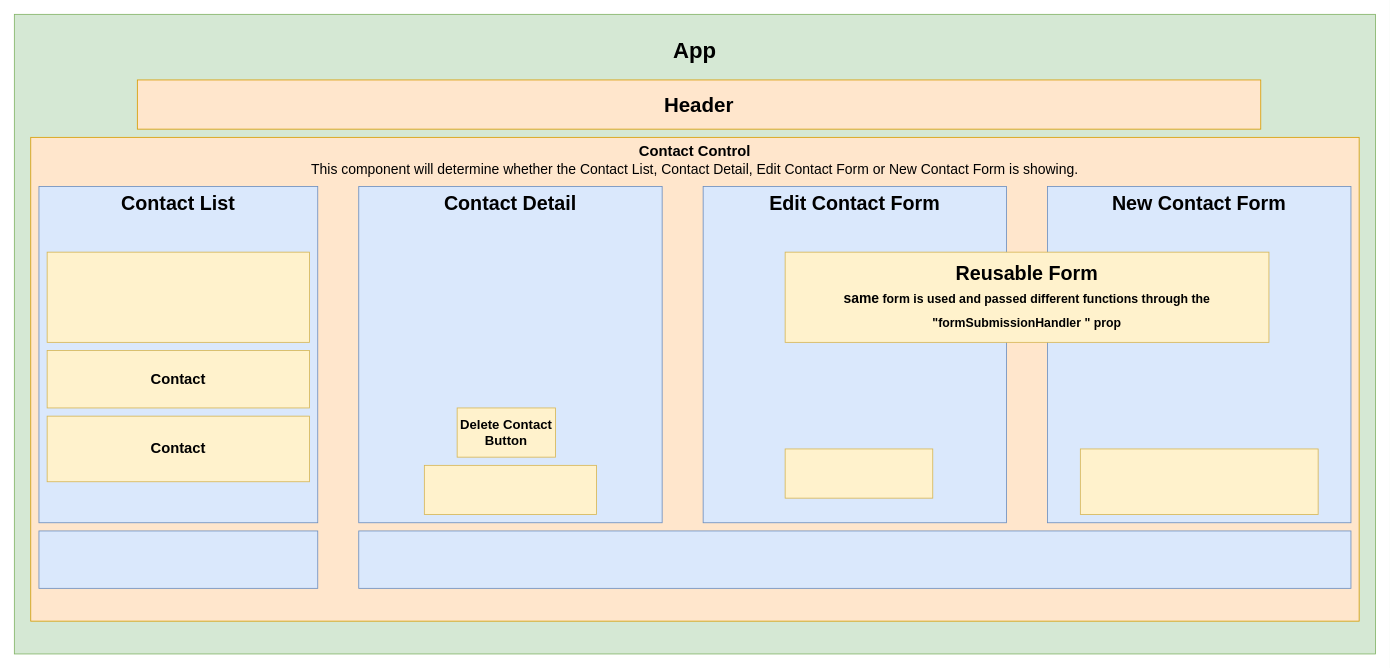
Some shapes in this 1390 by 668 pixel diagram are drawn without their labels. Each missing label, with the centre of its shape:
"Add Contact Button Takes shows page one. Lives in Contact Control Component" belongs at point (178, 559).
"Confirm Update Button" belongs at point (858, 473).
"Contact Clicking on a contact will show a contact's detail" belongs at point (178, 296).
"Contact list Button shows Contact list" belongs at point (854, 559).
"Submit Button Add contact and show ContactList" belongs at point (1199, 481).
"Update Button to Edit Form" belongs at point (510, 490).
